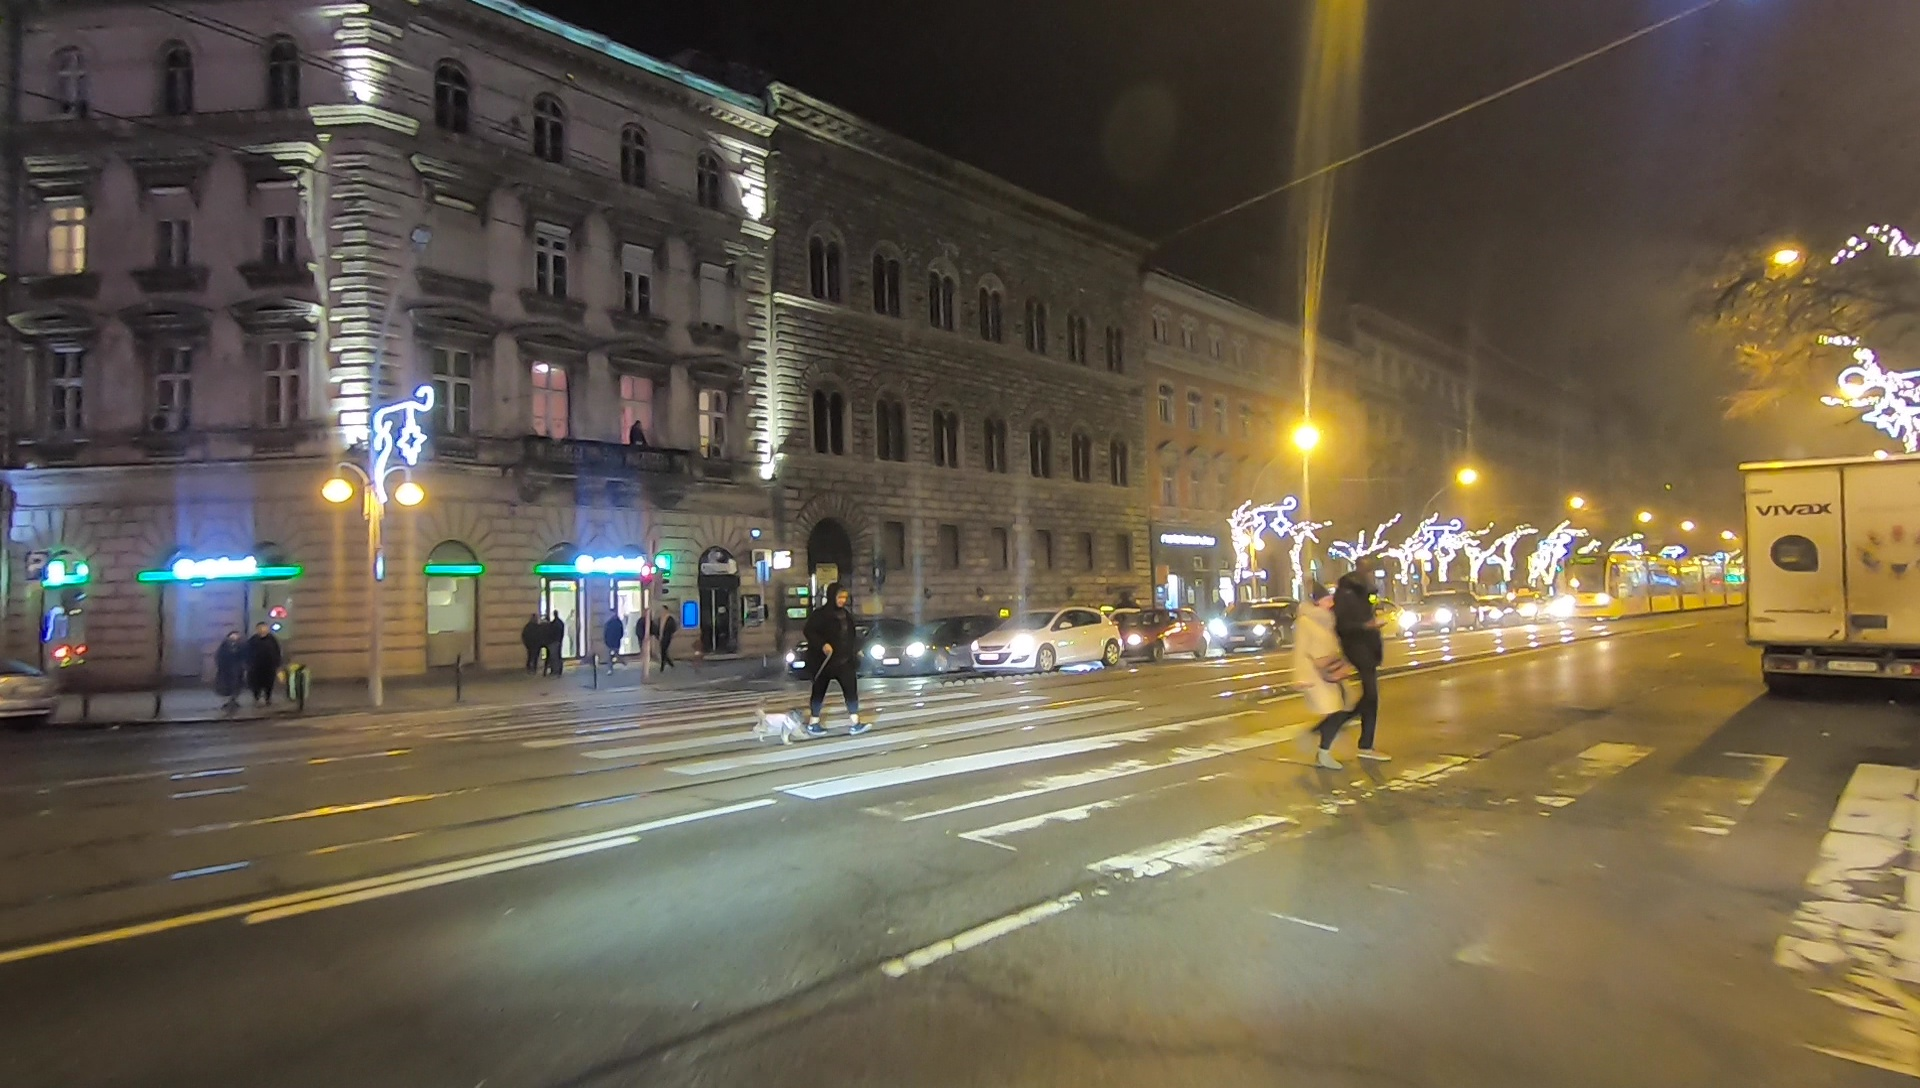person: (1288, 582, 1351, 773), (1338, 560, 1395, 760), (806, 595, 871, 728), (249, 621, 282, 697), (215, 632, 247, 702), (545, 611, 567, 676), (525, 611, 545, 674), (656, 610, 676, 669), (606, 611, 623, 661), (638, 611, 652, 665)
